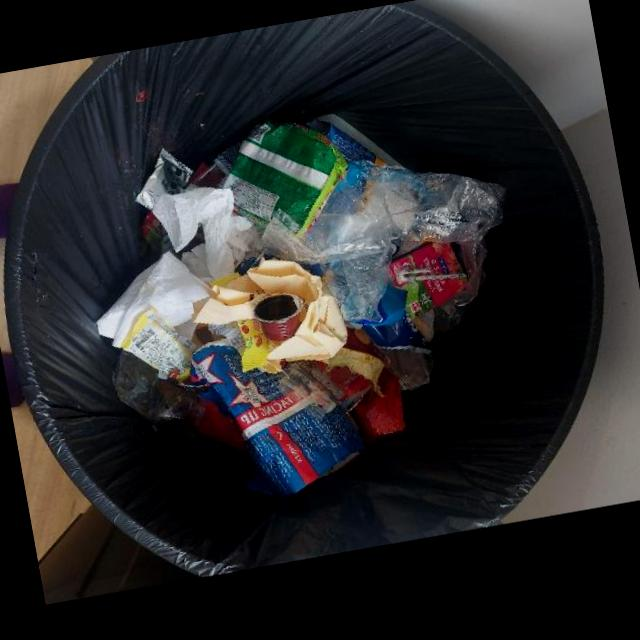bao_bi_thuc_pham: (189, 338, 365, 497), (218, 120, 348, 232), (122, 307, 192, 381), (135, 147, 193, 210), (208, 318, 270, 372)
giay: (190, 257, 347, 361), (95, 250, 209, 347), (151, 186, 252, 279)
hop_nhua: (251, 293, 303, 341)
ong_hut_nhua: (398, 268, 466, 281)
vo_hop_sua: (388, 241, 467, 319)
